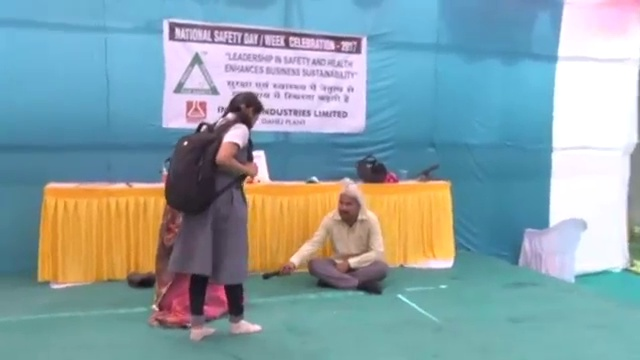helmet_off: (229, 93, 264, 127), (336, 192, 360, 222)
person: (164, 91, 265, 343), (282, 190, 386, 296)
